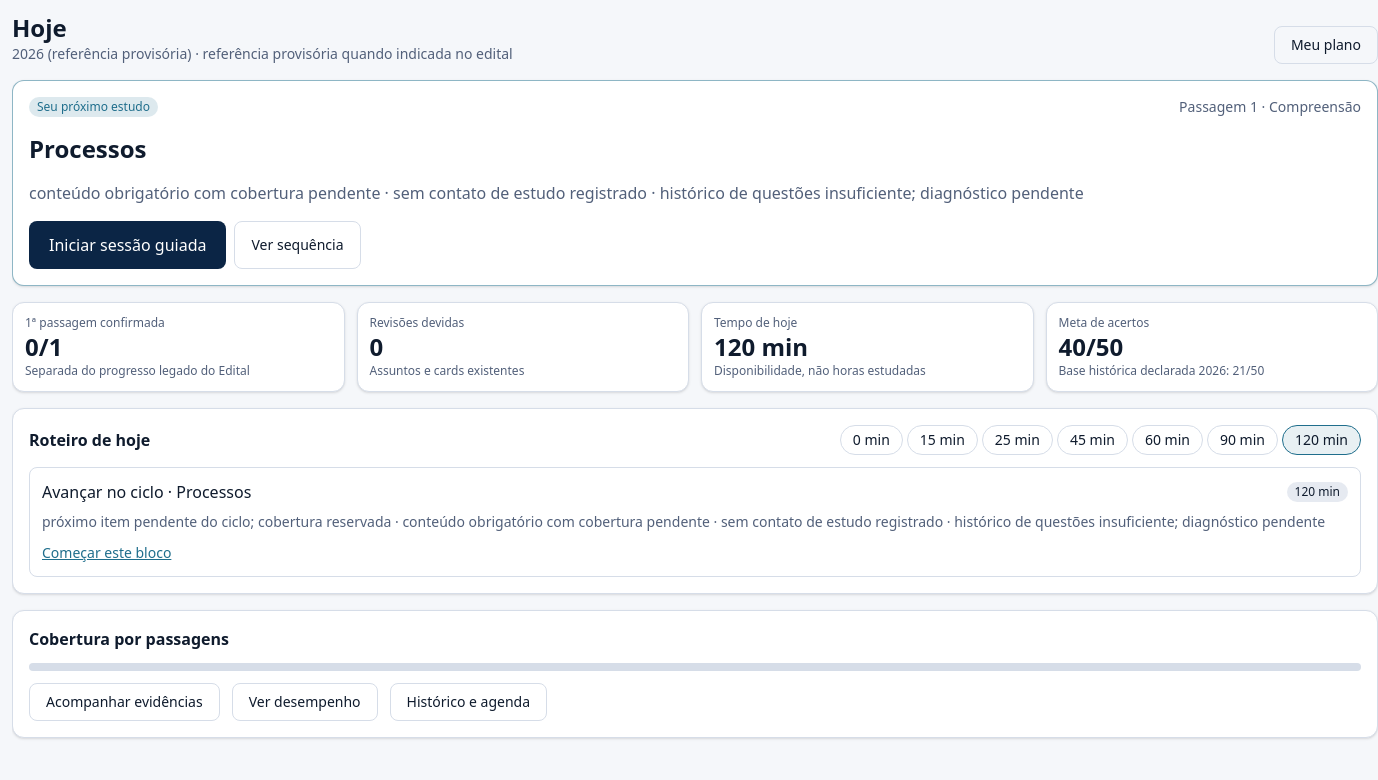
Scenario: Hoje: orientação a partir dos dados reais › dia de zero minutos preserva cursor e mostra fila guardada
The width and height of the screenshot is (1378, 780).
Click the button "0 min": [871, 440] box 840,425 -> 903,455
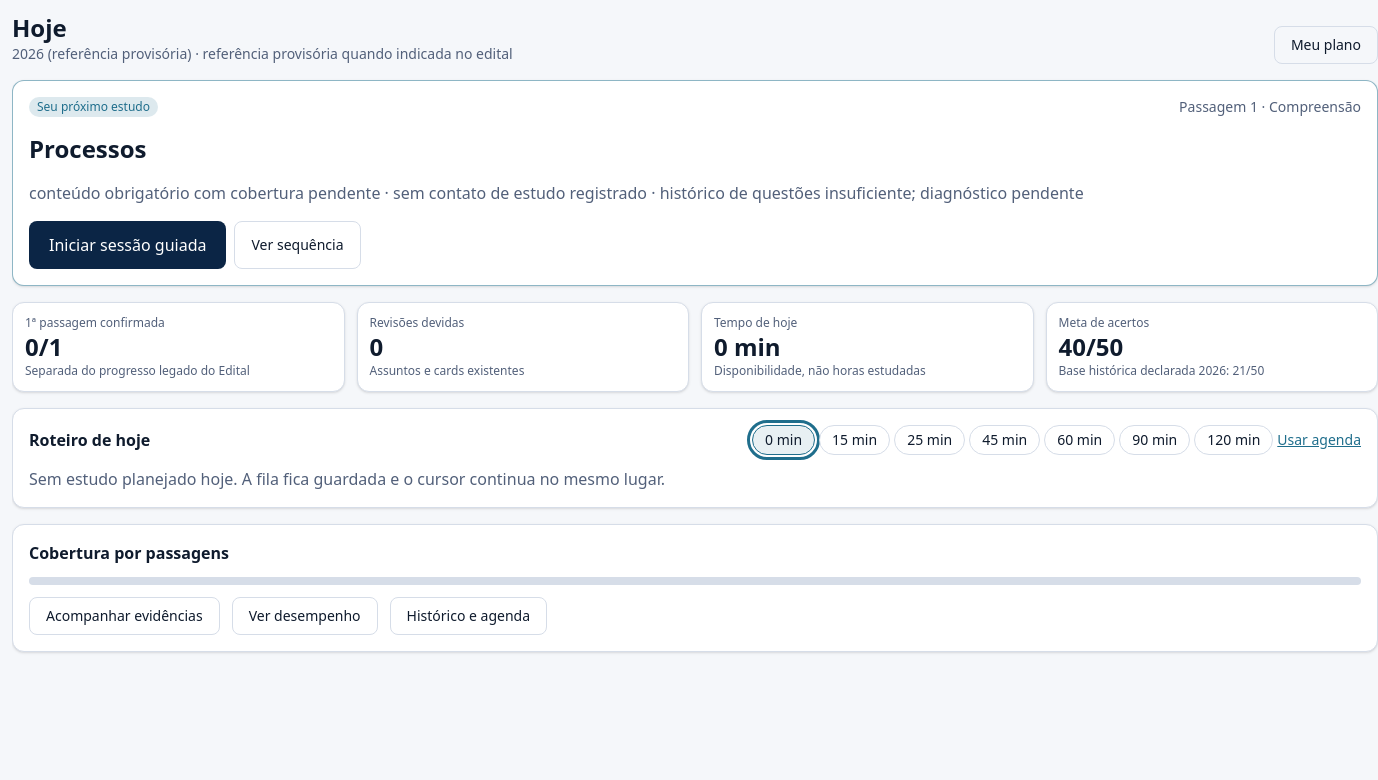
expect the text "Sem estudo planejado hoje. A fila fica guardada e o cursor continua no mesmo lugar." is shown: met, box 29,468 -> 665,490
